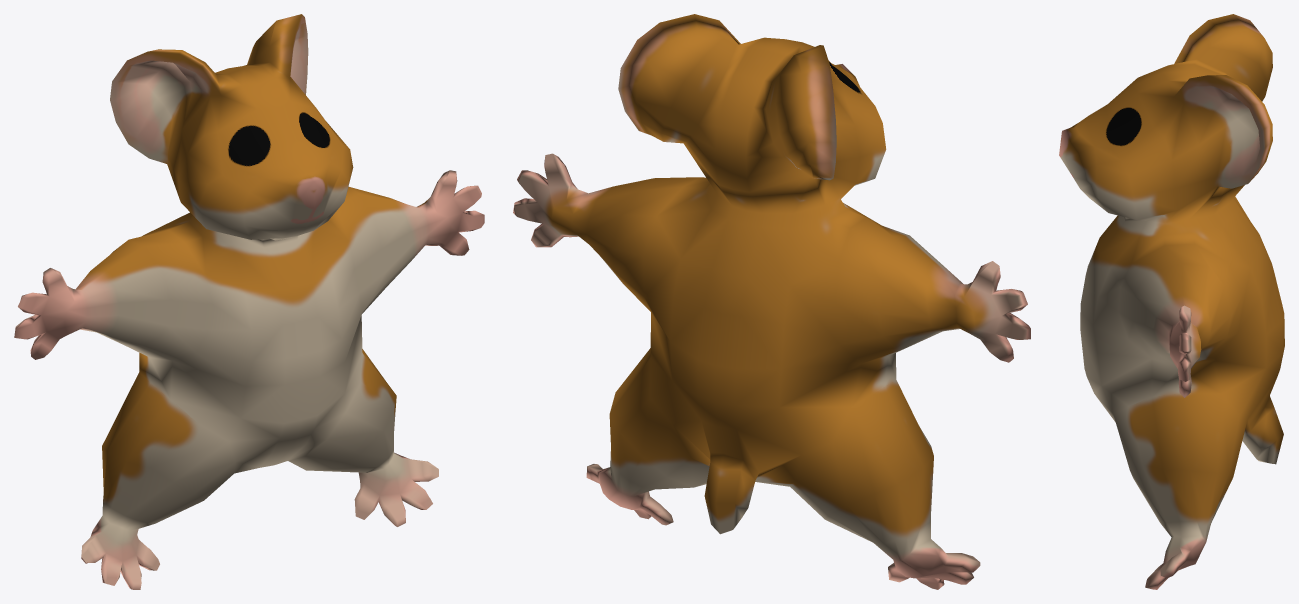
File: Hammy_static.fbx
The picture shows the model from 3 angles, left to right: view 1: azimuth 30°, elevation 25°; view 2: azimuth 150°, elevation 25°; view 3: azimuth 270°, elevation 25°; orthographic projection. The views are drawn at different scales.
Visible parts, largest first — view 1: Hammy_soft:polySurface1; view 2: Hammy_soft:polySurface1; view 3: Hammy_soft:polySurface1.
Part boxes in pixels (<box>): Hammy_soft:polySurface1: <box>14,14,484,589</box>; Hammy_soft:polySurface1: <box>513,14,1030,589</box>; Hammy_soft:polySurface1: <box>1059,14,1284,589</box>.
Size of the model in its own units: 6.71 by 6.77 by 2.9.
